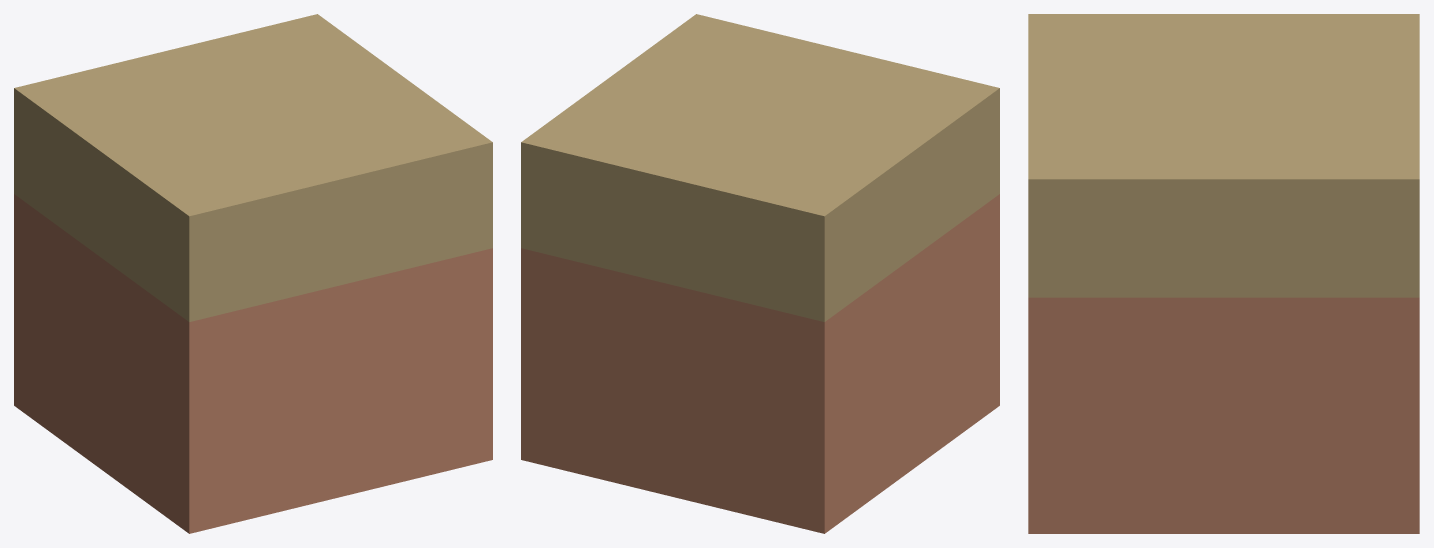
File: tile-center3.glb
The picture shows the model from 3 angles, left to right: view 1: azimuth 30°, elevation 25°; view 2: azimuth 150°, elevation 25°; view 3: azimuth 270°, elevation 25°; orthographic projection. The views are drawn at different scales.
Parts seen in each view (by area): view 1: Tile_Center (1); view 2: Tile_Center (1); view 3: Tile_Center (1).
Part boxes in pixels (x1,y1,x2,y2): Tile_Center (1): [14, 14, 492, 533]; Tile_Center (1): [521, 14, 999, 533]; Tile_Center (1): [1028, 14, 1419, 533].
Bounding box in the file's own units: 2 × 2 × 2.
Materials: 1 (1 with a texture image).
